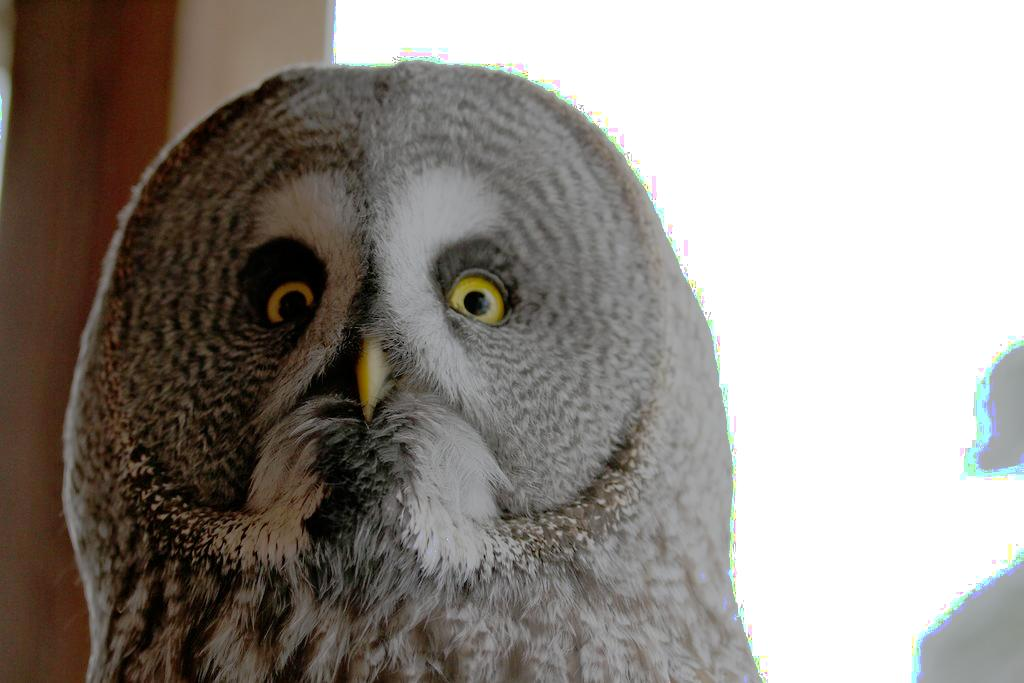Owl: (62, 60, 764, 683)
